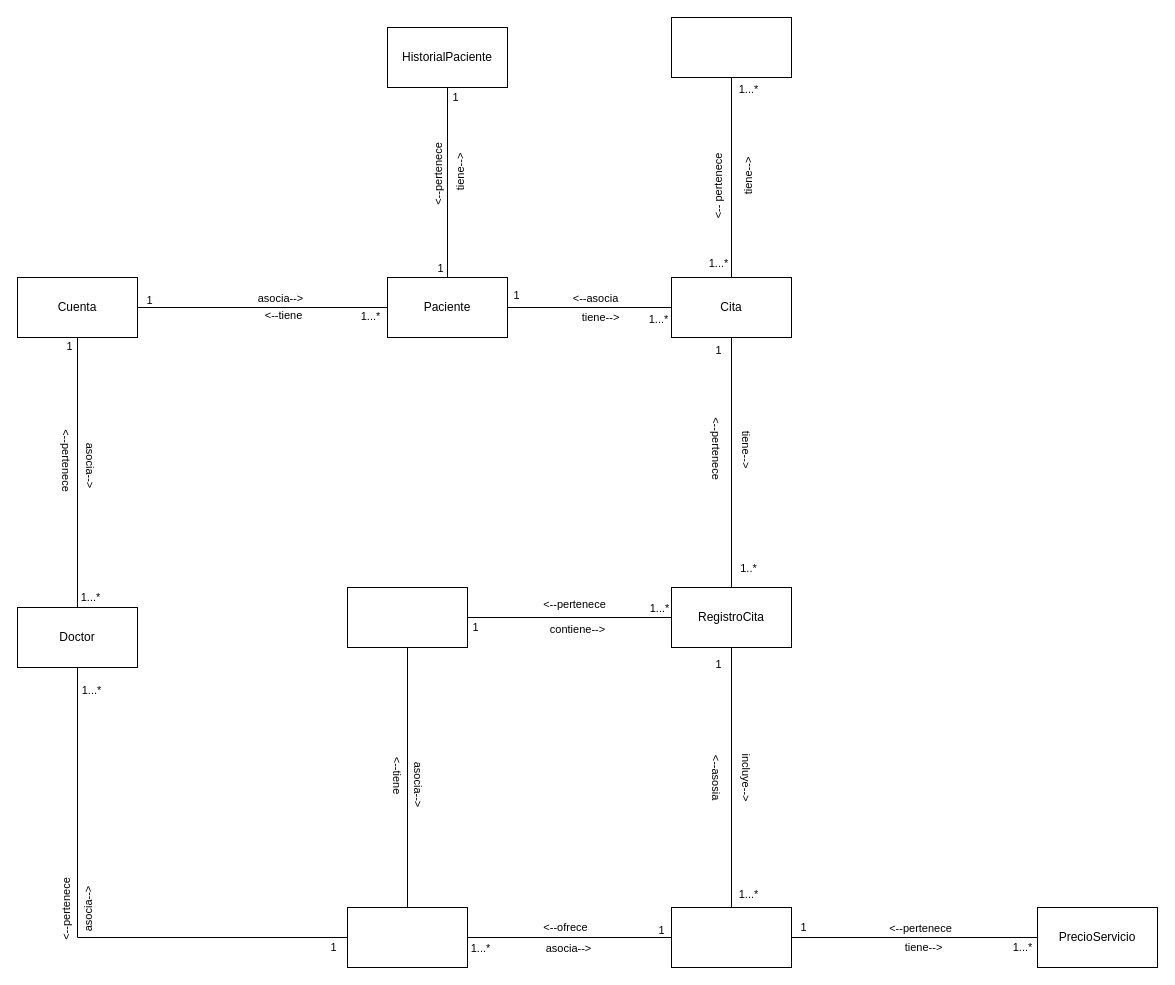
Some shapes in this 1175 by 985 pixel diagram are drawn without their labels. Here are the shapes that lost their labels. From the top down, the centre of each, then its label:
At pixel 731 47: "EstadoCita".
At pixel 407 617: "Agenda".
At pixel 407 937: "PersonalServicio".
At pixel 731 937: "Servicio".
